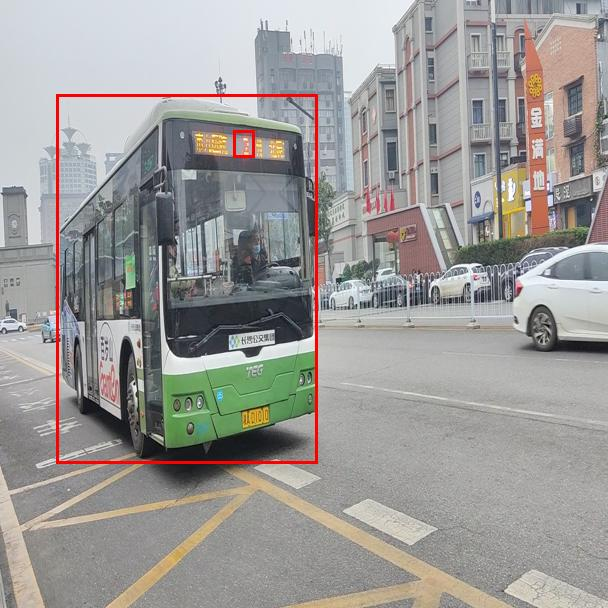bus: (56, 94, 317, 463)
screen: (233, 130, 254, 157)
